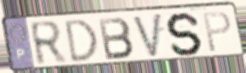B: (97, 16, 136, 62)
D: (64, 18, 100, 65)
P: (201, 10, 233, 54)
R: (28, 19, 69, 68)
S: (165, 11, 205, 57)
V: (131, 11, 163, 60)
